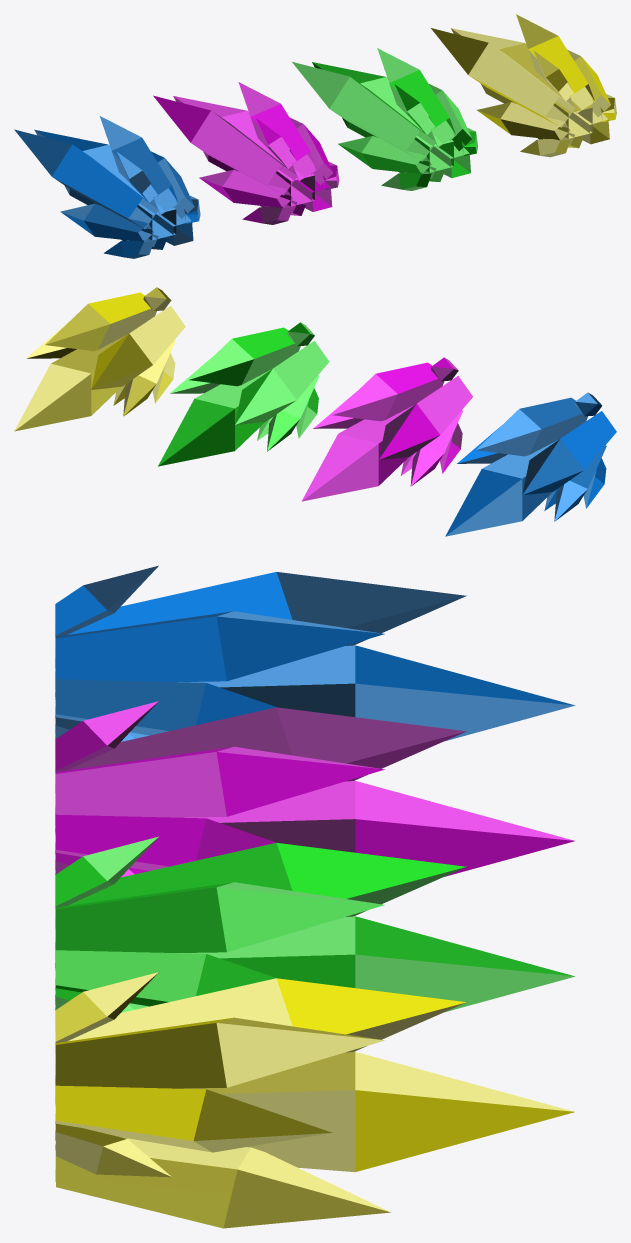
The model's file is Crystals.fbx.
3 views of the same model, one above another, from view 1: azimuth 30°, elevation 25°; view 2: azimuth 150°, elevation 25°; view 3: azimuth 270°, elevation 25° (orthographic). The views are drawn at different scales.
Visible parts, largest first — view 1: Cube, Crystal, Cube002, Cube001; view 2: Cube002, Crystal, Cube001, Cube; view 3: Cube002, Cube001, Cube, Crystal.
Boxes of the visible parts, x1,y1,x2,y2 form: Cube: (14, 116, 200, 258); Crystal: (153, 82, 339, 224); Cube002: (431, 14, 616, 157); Cube001: (292, 48, 477, 190); Cube002: (14, 287, 185, 431); Crystal: (301, 357, 472, 501); Cube001: (158, 322, 329, 466); Cube: (445, 392, 616, 536); Cube002: (55, 972, 574, 1228); Cube001: (55, 836, 575, 1012); Cube: (55, 565, 575, 741); Crystal: (55, 701, 574, 877).
Size of the model in its own units: 955 by 172 by 406.
1 material, 1 textured.
